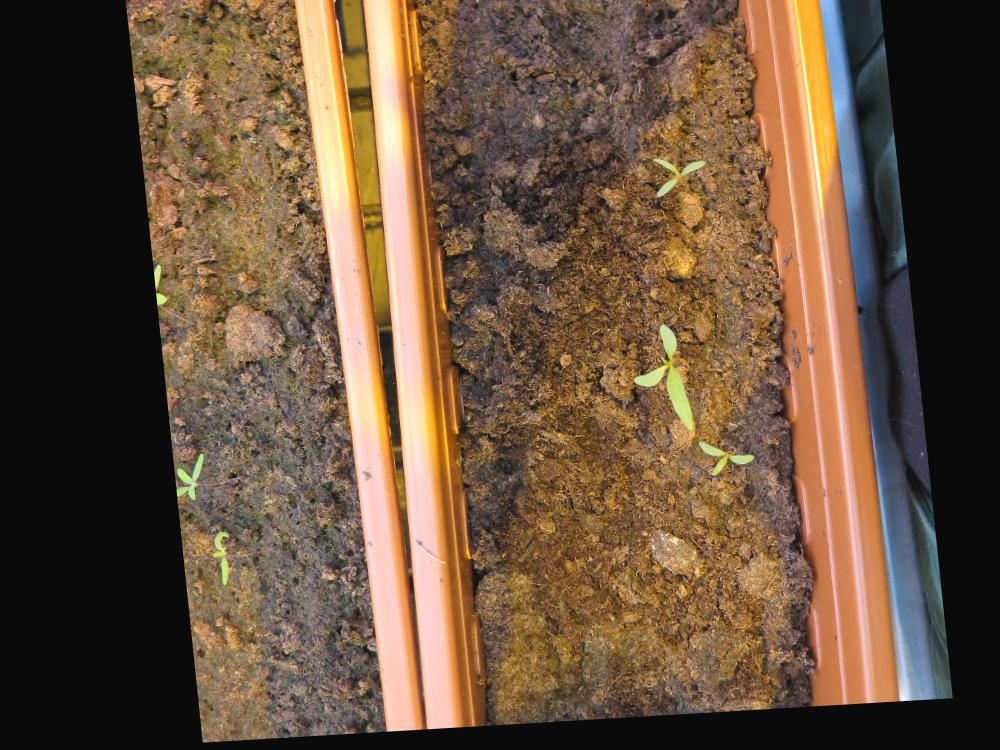weed: (615, 331, 684, 444), (645, 162, 703, 208), (685, 447, 745, 487), (194, 534, 223, 590)
